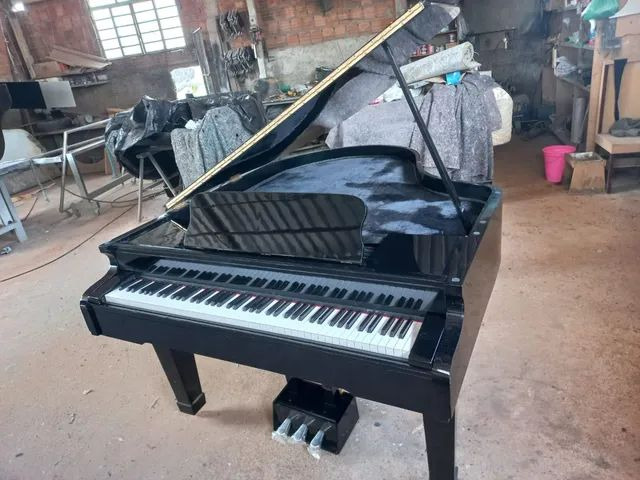Piano: (78, 3, 533, 477)
